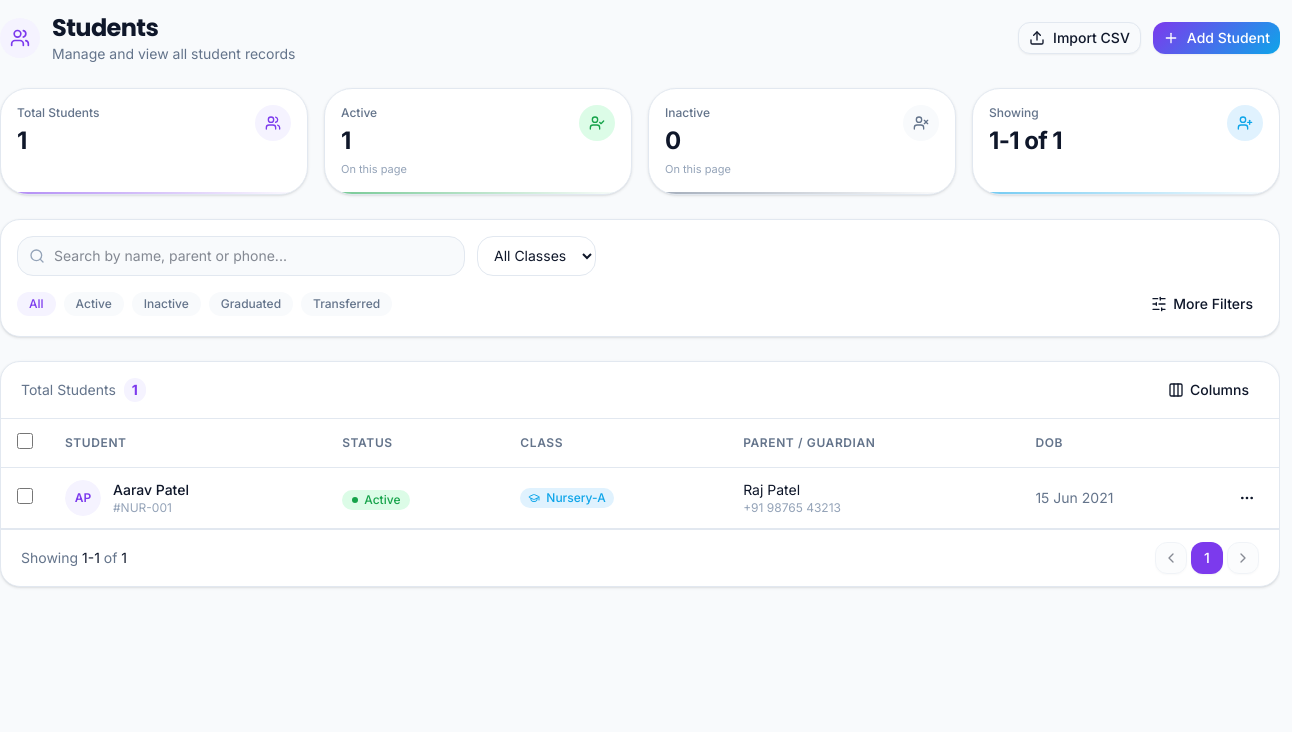
Test case: StudentsListPage › Filter Bar › clears all filters when "Clear Filters" is clicked
Type "Aarav" into the field with placeholder "Search by name, parent or phone..." at coordinates (241, 256), box left=17, top=236, right=465, bottom=276
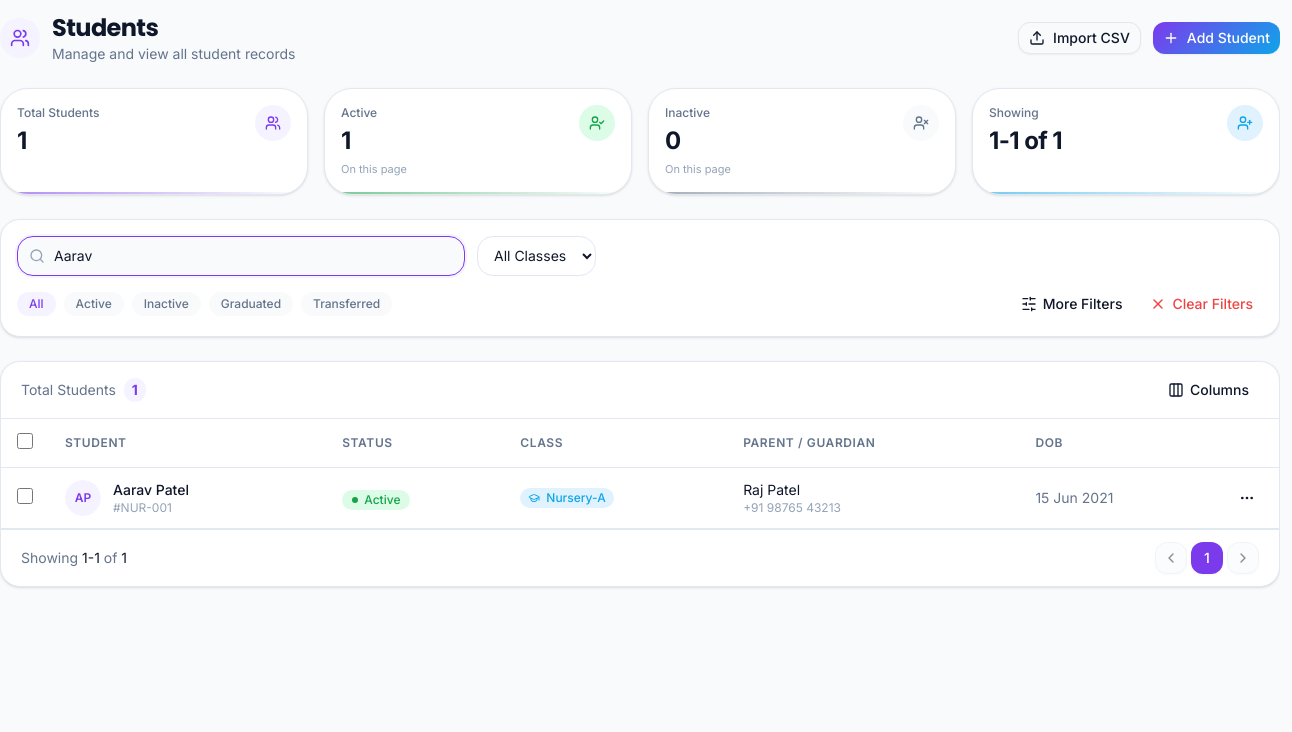
Click the button "Clear Filters" at coordinates (1202, 304), box left=1140, top=288, right=1263, bottom=320
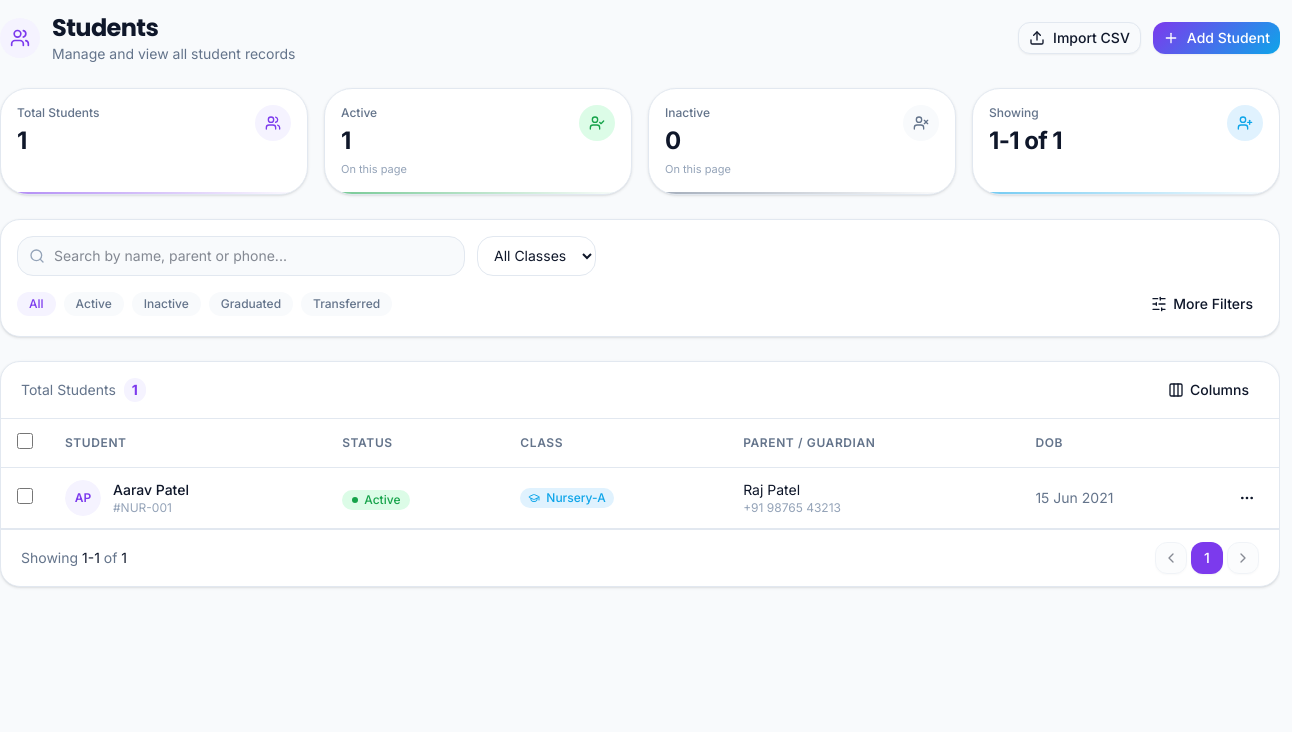
Now the button "Clear Filters" is gone
